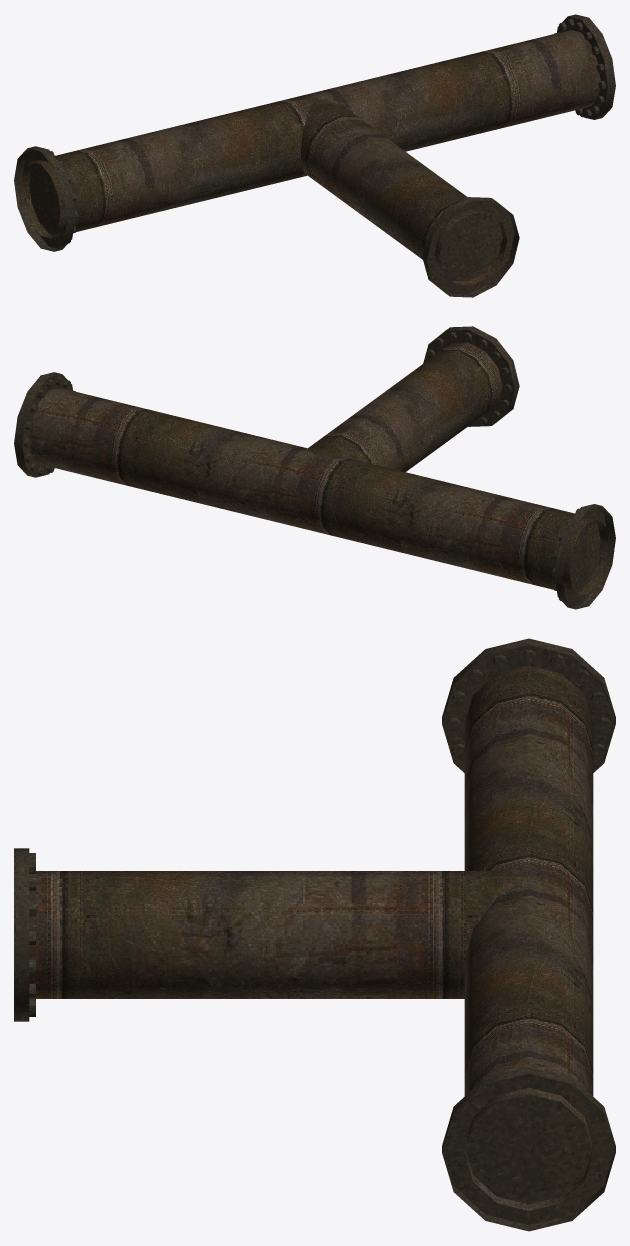
Rendered from pipe_bx_4.glb.
The picture shows the model from 3 angles, top to bottom: view 1: azimuth 30°, elevation 25°; view 2: azimuth 150°, elevation 25°; view 3: azimuth 270°, elevation 25°; orthographic projection. The views are drawn at different scales.
Visible parts, largest first — view 1: pipe_bx_4; view 2: pipe_bx_4; view 3: pipe_bx_4.
Part boxes in pixels (left/top/right/bottom): pipe_bx_4: left=14, top=14, right=615, bottom=297; pipe_bx_4: left=14, top=326, right=615, bottom=609; pipe_bx_4: left=14, top=638, right=615, bottom=1231.
Size of the model in its own units: 4 by 0.676 by 2.34.
Materials: 2 (2 with a texture image).
